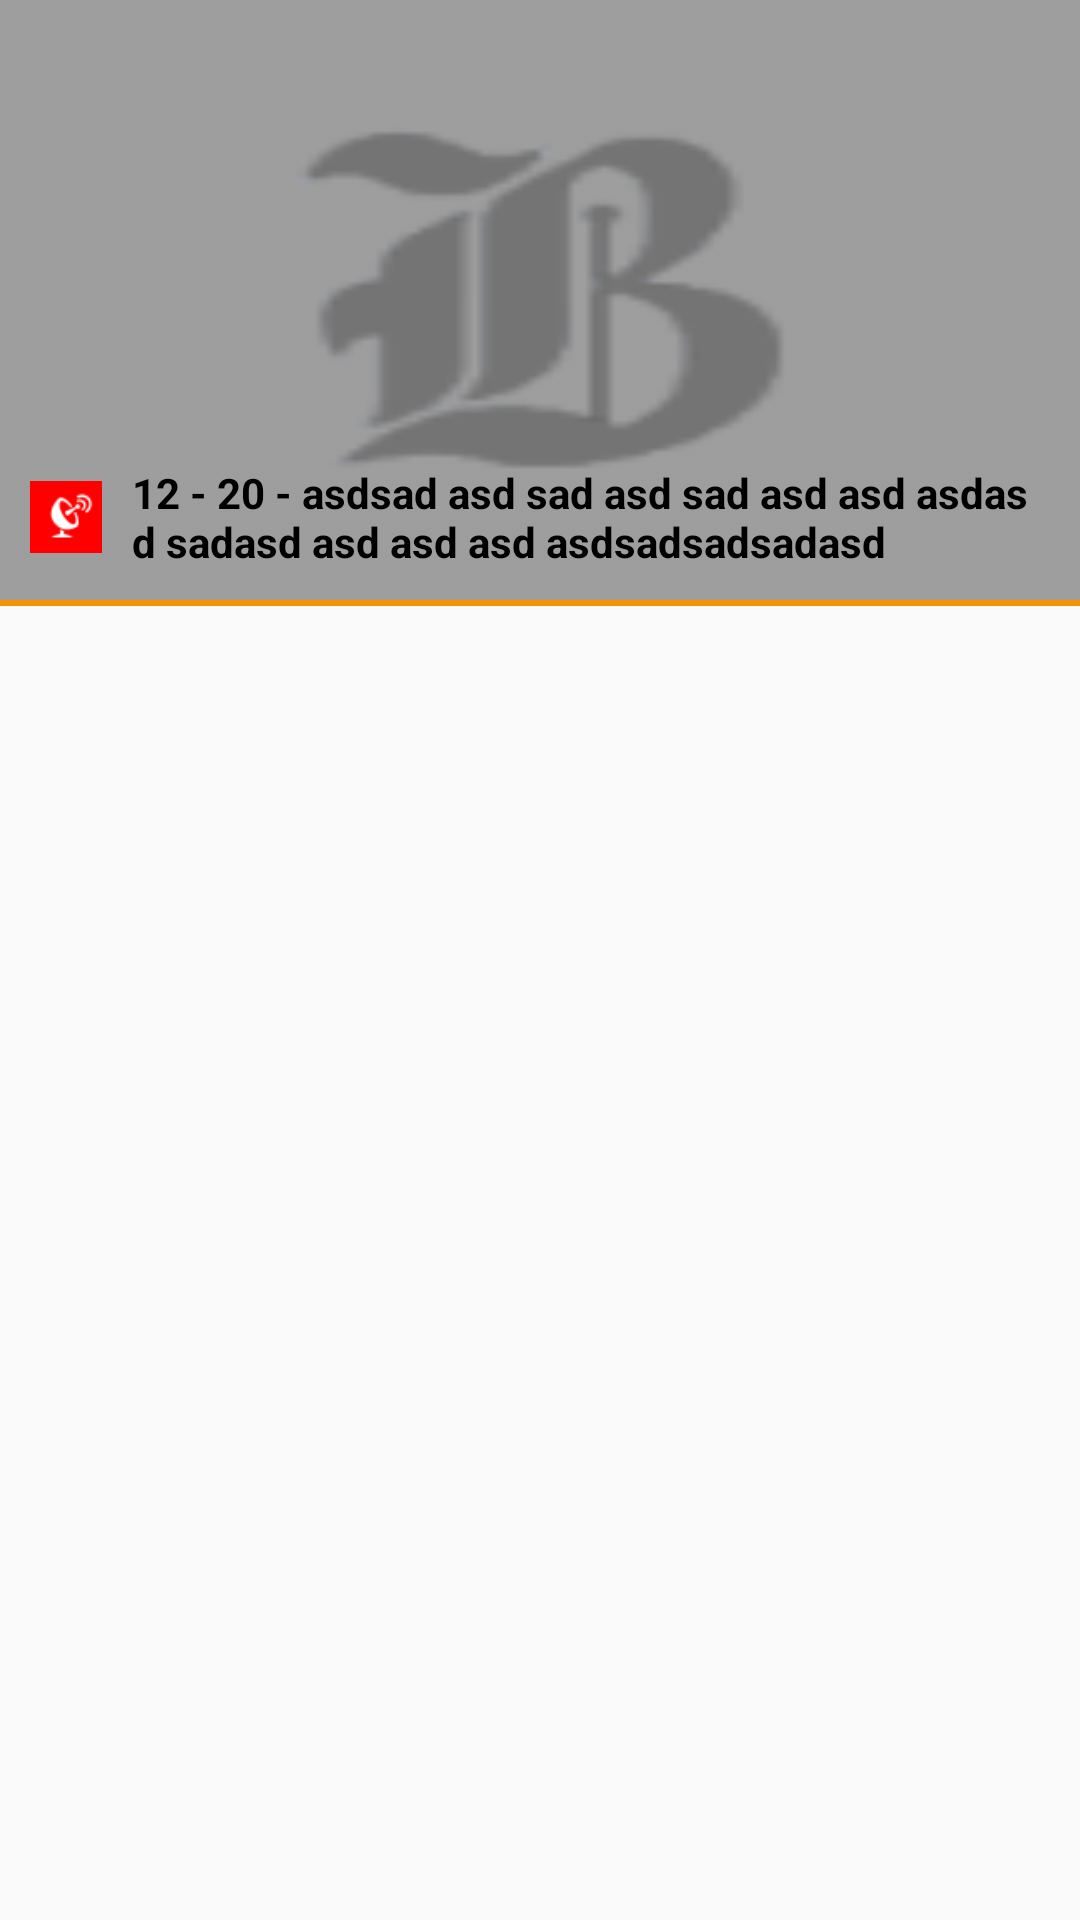

Where to tap for icons on this 1080 x 1920 app screen, as (x,y):
live: (66,517)
